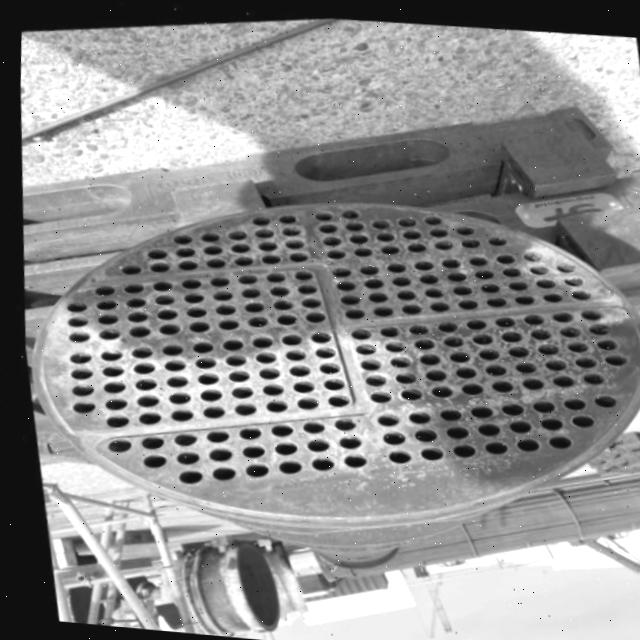Hole: (202, 458, 233, 480), (379, 440, 409, 462), (168, 461, 198, 482), (132, 446, 162, 465), (235, 455, 263, 475), (268, 452, 296, 472), (301, 448, 329, 468), (334, 446, 362, 466), (443, 436, 471, 456), (438, 417, 466, 437), (294, 411, 320, 432), (411, 439, 438, 459), (541, 428, 568, 448), (469, 415, 496, 435), (167, 443, 195, 462), (329, 427, 357, 446), (261, 415, 289, 434), (462, 398, 490, 417), (554, 390, 582, 409), (98, 431, 127, 449), (476, 434, 504, 452), (501, 413, 529, 431), (131, 428, 159, 446), (586, 387, 614, 405), (508, 430, 533, 450), (299, 431, 325, 450), (130, 403, 156, 422), (326, 410, 353, 428), (523, 392, 550, 410), (97, 407, 124, 425), (199, 441, 227, 458), (232, 438, 260, 455), (406, 422, 434, 439), (229, 420, 257, 437), (96, 390, 124, 407), (61, 344, 89, 361), (91, 320, 119, 337), (198, 422, 223, 441), (374, 424, 400, 442), (532, 411, 558, 429), (493, 395, 519, 413), (226, 396, 252, 414), (258, 393, 284, 411), (483, 373, 509, 391), (63, 376, 89, 394), (126, 353, 152, 371), (124, 338, 150, 356), (431, 401, 458, 418), (214, 330, 241, 347), (267, 434, 292, 452), (320, 387, 345, 405), (308, 339, 333, 357), (544, 368, 572, 384), (370, 407, 396, 424), (196, 399, 222, 416), (289, 390, 315, 407), (454, 376, 480, 393), (64, 393, 90, 410), (129, 387, 155, 404), (255, 376, 281, 393), (158, 368, 184, 385), (221, 363, 247, 380), (245, 329, 271, 346), (152, 315, 178, 332), (211, 311, 237, 328), (564, 408, 589, 425), (166, 425, 191, 442), (401, 405, 426, 422), (162, 402, 187, 419), (515, 370, 540, 387), (63, 360, 88, 377), (183, 313, 208, 330), (207, 297, 235, 312), (362, 384, 388, 400), (95, 374, 121, 390), (251, 361, 277, 377), (248, 345, 274, 361), (155, 336, 181, 352), (185, 334, 211, 350), (122, 318, 148, 334), (523, 321, 549, 337), (424, 379, 448, 396), (577, 366, 601, 383), (60, 293, 84, 310), (157, 352, 182, 368), (150, 301, 175, 317), (117, 276, 142, 292), (357, 367, 382, 383), (353, 351, 378, 367), (344, 321, 369, 337), (475, 275, 500, 291), (142, 241, 167, 257), (509, 355, 532, 372), (192, 382, 218, 397), (187, 350, 213, 365), (180, 299, 206, 314), (237, 294, 263, 309), (590, 333, 616, 348), (536, 285, 562, 300), (161, 385, 185, 401), (286, 374, 310, 390), (128, 371, 152, 387), (283, 358, 307, 374), (275, 327, 299, 343), (304, 325, 328, 341), (298, 304, 322, 320), (61, 308, 85, 324), (480, 289, 504, 305), (96, 358, 121, 373), (568, 350, 593, 365), (279, 342, 302, 358), (89, 292, 112, 308), (389, 364, 412, 380), (460, 311, 483, 327), (201, 250, 224, 266), (251, 220, 274, 236), (196, 224, 219, 240), (224, 380, 248, 395), (317, 372, 341, 387), (219, 348, 243, 363), (94, 342, 118, 357), (242, 310, 266, 325), (91, 306, 115, 321), (121, 304, 145, 319), (267, 292, 291, 307), (295, 290, 319, 305), (264, 278, 288, 293), (292, 277, 316, 292), (443, 344, 467, 359), (408, 331, 432, 346), (437, 329, 461, 344), (501, 339, 525, 354), (374, 319, 398, 334), (403, 317, 427, 332), (495, 324, 519, 339), (367, 298, 391, 313), (334, 287, 358, 302), (530, 271, 554, 286), (551, 255, 575, 270), (288, 262, 312, 277), (228, 249, 252, 264), (199, 237, 223, 252), (394, 382, 417, 397), (191, 367, 214, 382), (313, 356, 336, 371), (63, 324, 86, 339), (270, 307, 293, 322), (235, 281, 258, 296), (384, 350, 407, 365), (349, 337, 372, 352), (431, 314, 454, 329), (453, 292, 476, 307), (339, 301, 362, 316), (519, 307, 542, 322), (491, 246, 514, 261), (116, 257, 139, 272), (145, 254, 168, 269), (173, 252, 196, 267), (273, 207, 296, 222), (248, 208, 271, 223), (253, 234, 276, 249), (171, 239, 194, 254), (169, 227, 192, 242), (119, 291, 143, 305), (89, 278, 113, 292), (538, 353, 562, 367), (412, 348, 436, 362), (531, 338, 555, 352), (466, 327, 490, 341), (546, 306, 570, 320), (508, 288, 532, 302), (423, 295, 447, 309), (361, 286, 385, 300), (446, 278, 470, 292), (329, 274, 353, 288), (442, 265, 466, 279), (463, 249, 487, 263), (436, 252, 460, 266), (175, 272, 199, 286), (256, 247, 280, 261), (223, 223, 247, 237), (418, 363, 441, 377), (449, 361, 472, 375), (473, 342, 496, 356), (489, 310, 512, 324), (554, 320, 577, 334), (600, 349, 623, 363), (561, 335, 584, 349), (583, 317, 606, 331), (566, 283, 589, 297), (419, 282, 442, 296), (504, 274, 527, 288), (497, 260, 520, 274), (410, 253, 433, 267), (348, 240, 371, 254), (148, 274, 171, 288), (284, 245, 307, 259), (395, 298, 419, 311), (226, 237, 250, 250), (379, 335, 401, 349), (525, 258, 547, 272), (278, 219, 300, 233), (367, 213, 390, 226), (310, 204, 333, 217), (150, 287, 171, 301), (207, 283, 228, 297), (480, 358, 501, 372), (425, 221, 446, 235), (315, 217, 336, 231), (205, 270, 226, 284), (576, 304, 598, 317), (560, 270, 582, 283), (359, 272, 381, 285), (469, 264, 491, 277), (382, 256, 404, 269), (233, 268, 255, 281), (484, 231, 507, 243), (180, 286, 201, 299), (415, 268, 436, 281), (355, 259, 376, 272), (327, 261, 348, 274), (457, 232, 478, 245), (452, 219, 473, 232), (394, 211, 415, 224), (430, 234, 452, 246), (403, 236, 425, 248), (376, 239, 398, 251), (345, 228, 367, 240), (398, 224, 420, 236), (419, 210, 441, 222), (341, 216, 363, 228), (337, 203, 359, 215), (391, 285, 412, 297), (387, 270, 408, 282), (519, 245, 540, 257), (323, 243, 344, 255), (318, 230, 339, 242), (372, 226, 393, 238), (262, 266, 283, 278), (281, 233, 302, 244)
